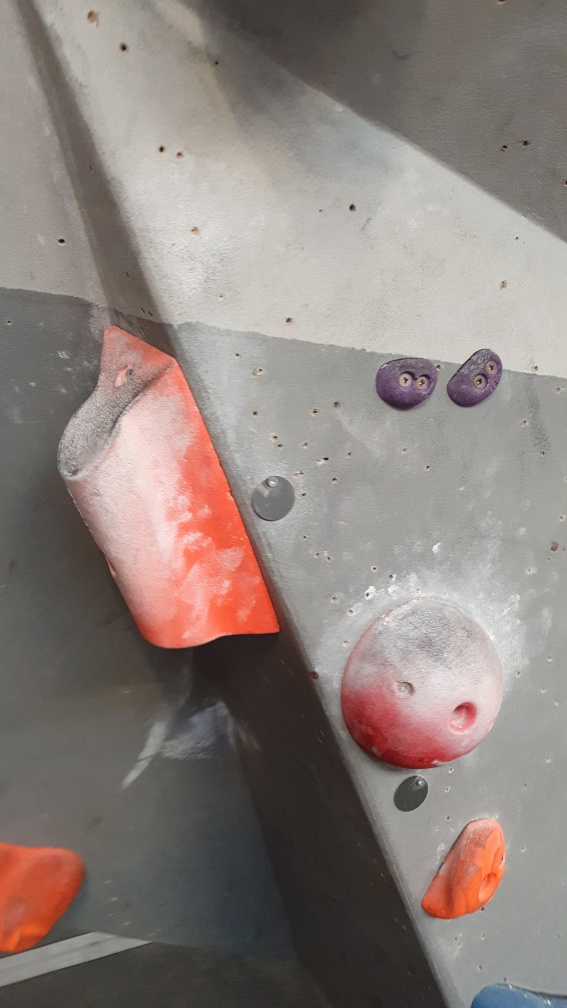Hand Start: (248, 473, 299, 527), (394, 776, 428, 815)
Pinch: (54, 325, 282, 656), (370, 353, 440, 412), (445, 347, 504, 413)
Sloper: (337, 597, 507, 776)
